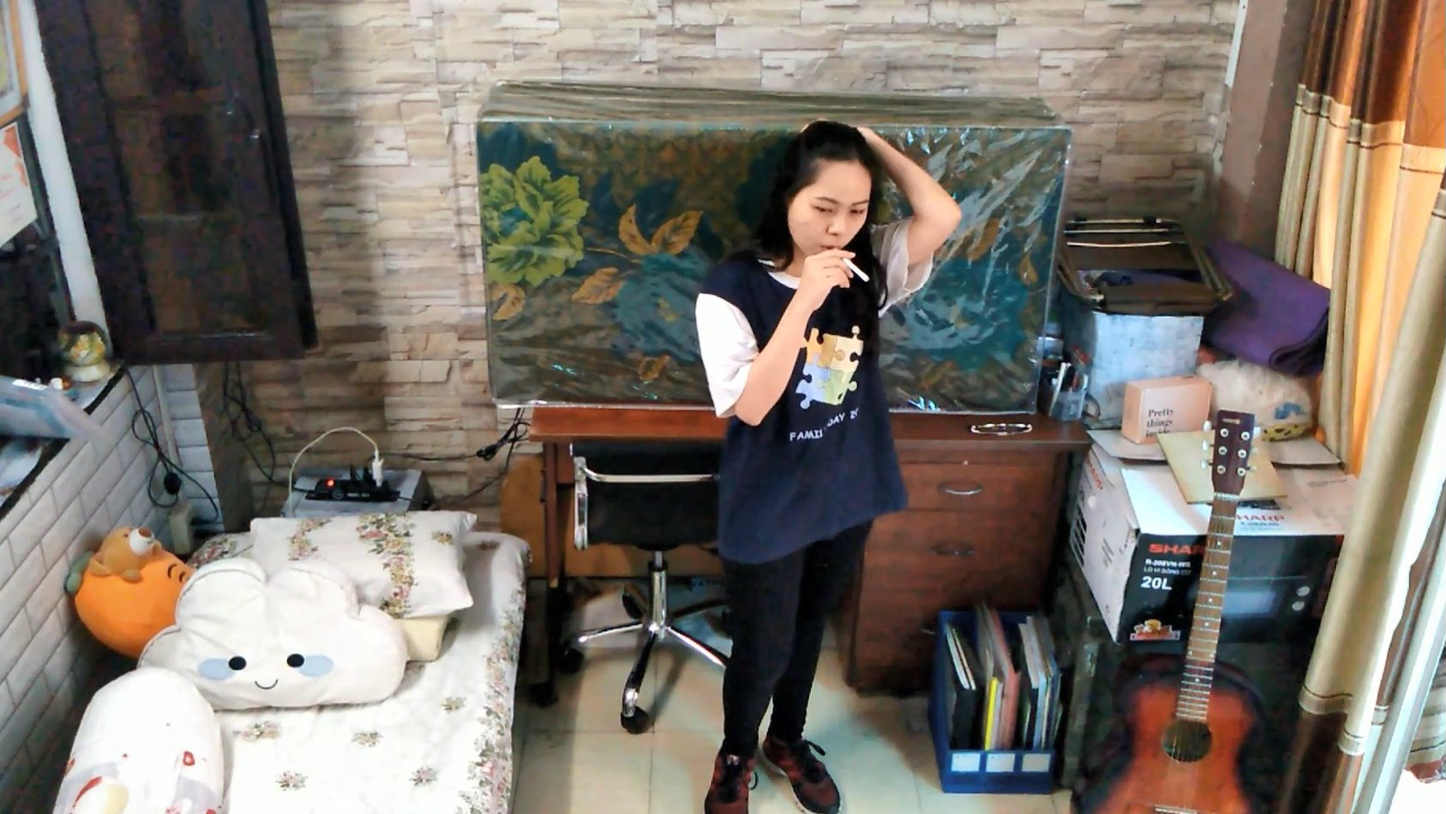cigarette: (834, 252, 878, 296)
person: (684, 102, 959, 814)
